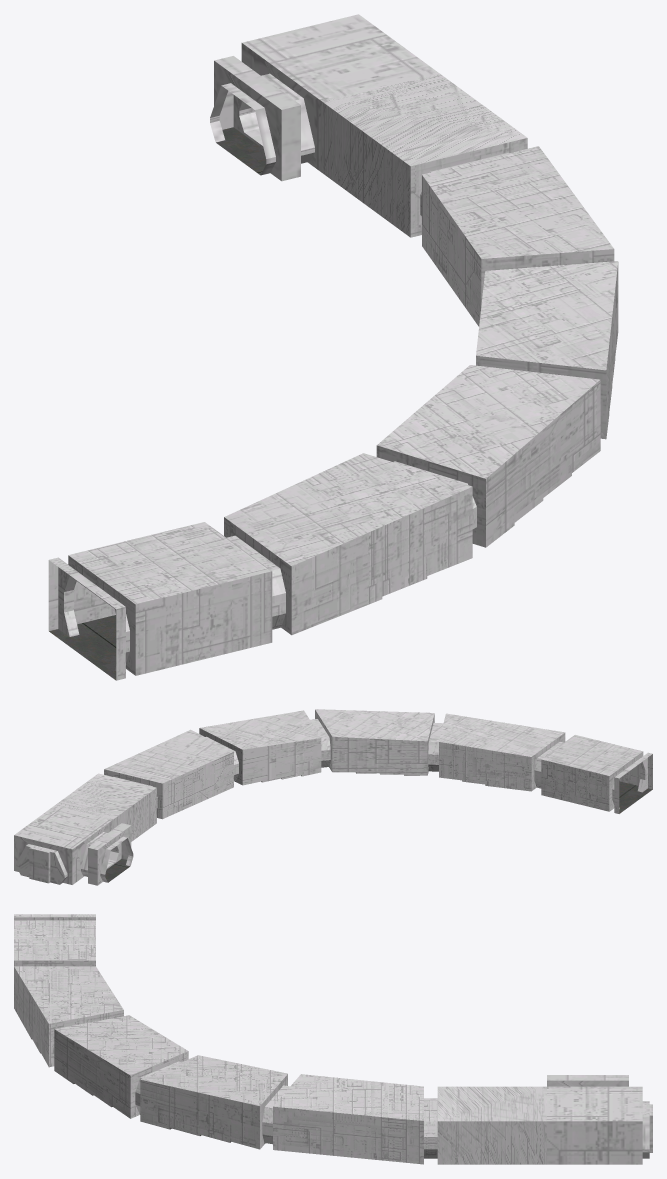
File: thm_spc_star_destroyer_s01_r12_hallway02_mesh_r12.fbx
The picture shows the model from 3 angles, top to bottom: view 1: azimuth 30°, elevation 25°; view 2: azimuth 150°, elevation 25°; view 3: azimuth 270°, elevation 25°; orthographic projection. The views are drawn at different scales.
Visible parts, largest first — view 1: mesh_node; view 2: mesh_node; view 3: mesh_node.
Boxes of the visible parts, bbox=[...] form: mesh_node: bbox=[48, 14, 618, 680]; mesh_node: bbox=[14, 709, 652, 885]; mesh_node: bbox=[14, 914, 652, 1164].
Size of the model in its own units: 39 by 5 by 46.75.
Materials: 2 (2 with a texture image).
